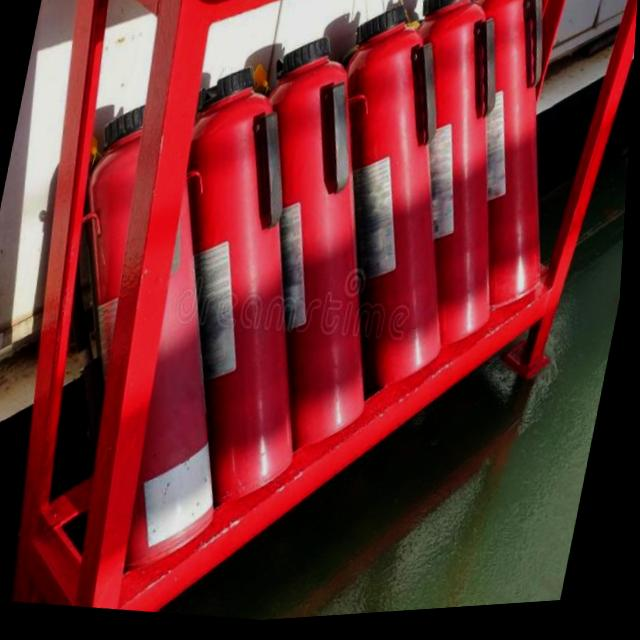FireExtinguisher: (14, 70, 303, 592), (90, 48, 376, 528), (184, 14, 443, 483), (284, 0, 514, 408), (348, 0, 558, 374), (407, 0, 602, 336)
